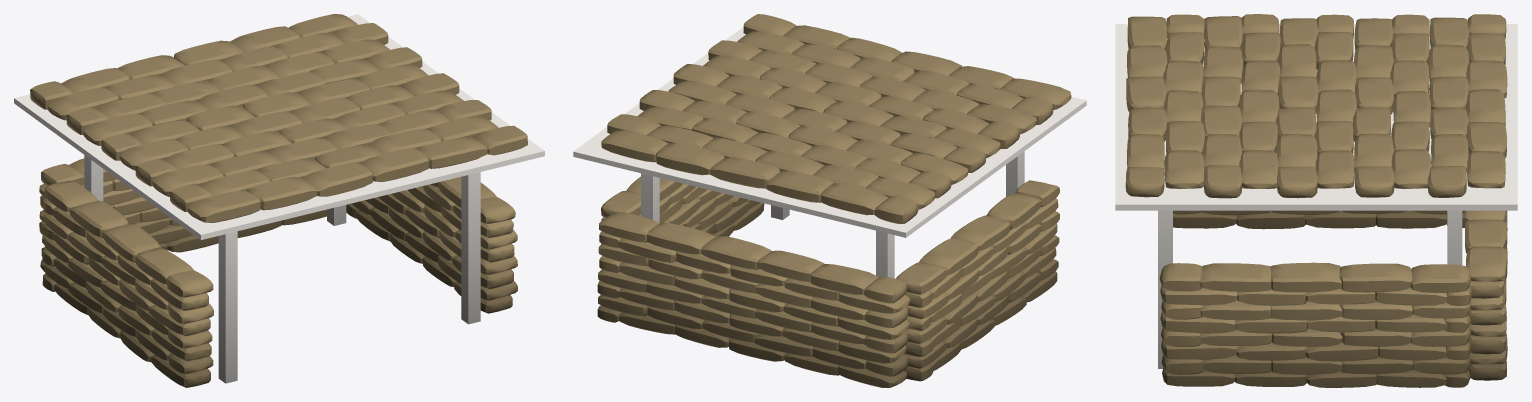
Rendered from mg_nest.glb.
3 views of the same model, side by side, from view 1: azimuth 30°, elevation 25°; view 2: azimuth 150°, elevation 25°; view 3: azimuth 270°, elevation 25° (orthographic). The views are drawn at different scales.
Parts seen in each view (by area): view 1: mg_nest_LOD0; view 2: mg_nest_LOD0; view 3: mg_nest_LOD0.
Boxes of the visible parts, x1,y1,x2,y2 form: mg_nest_LOD0: (14,14,544,387); mg_nest_LOD0: (573,14,1086,387); mg_nest_LOD0: (1115,14,1517,387).
Size of what is drawn, in the model's own units: 3.4 by 1.79 by 3.2.
